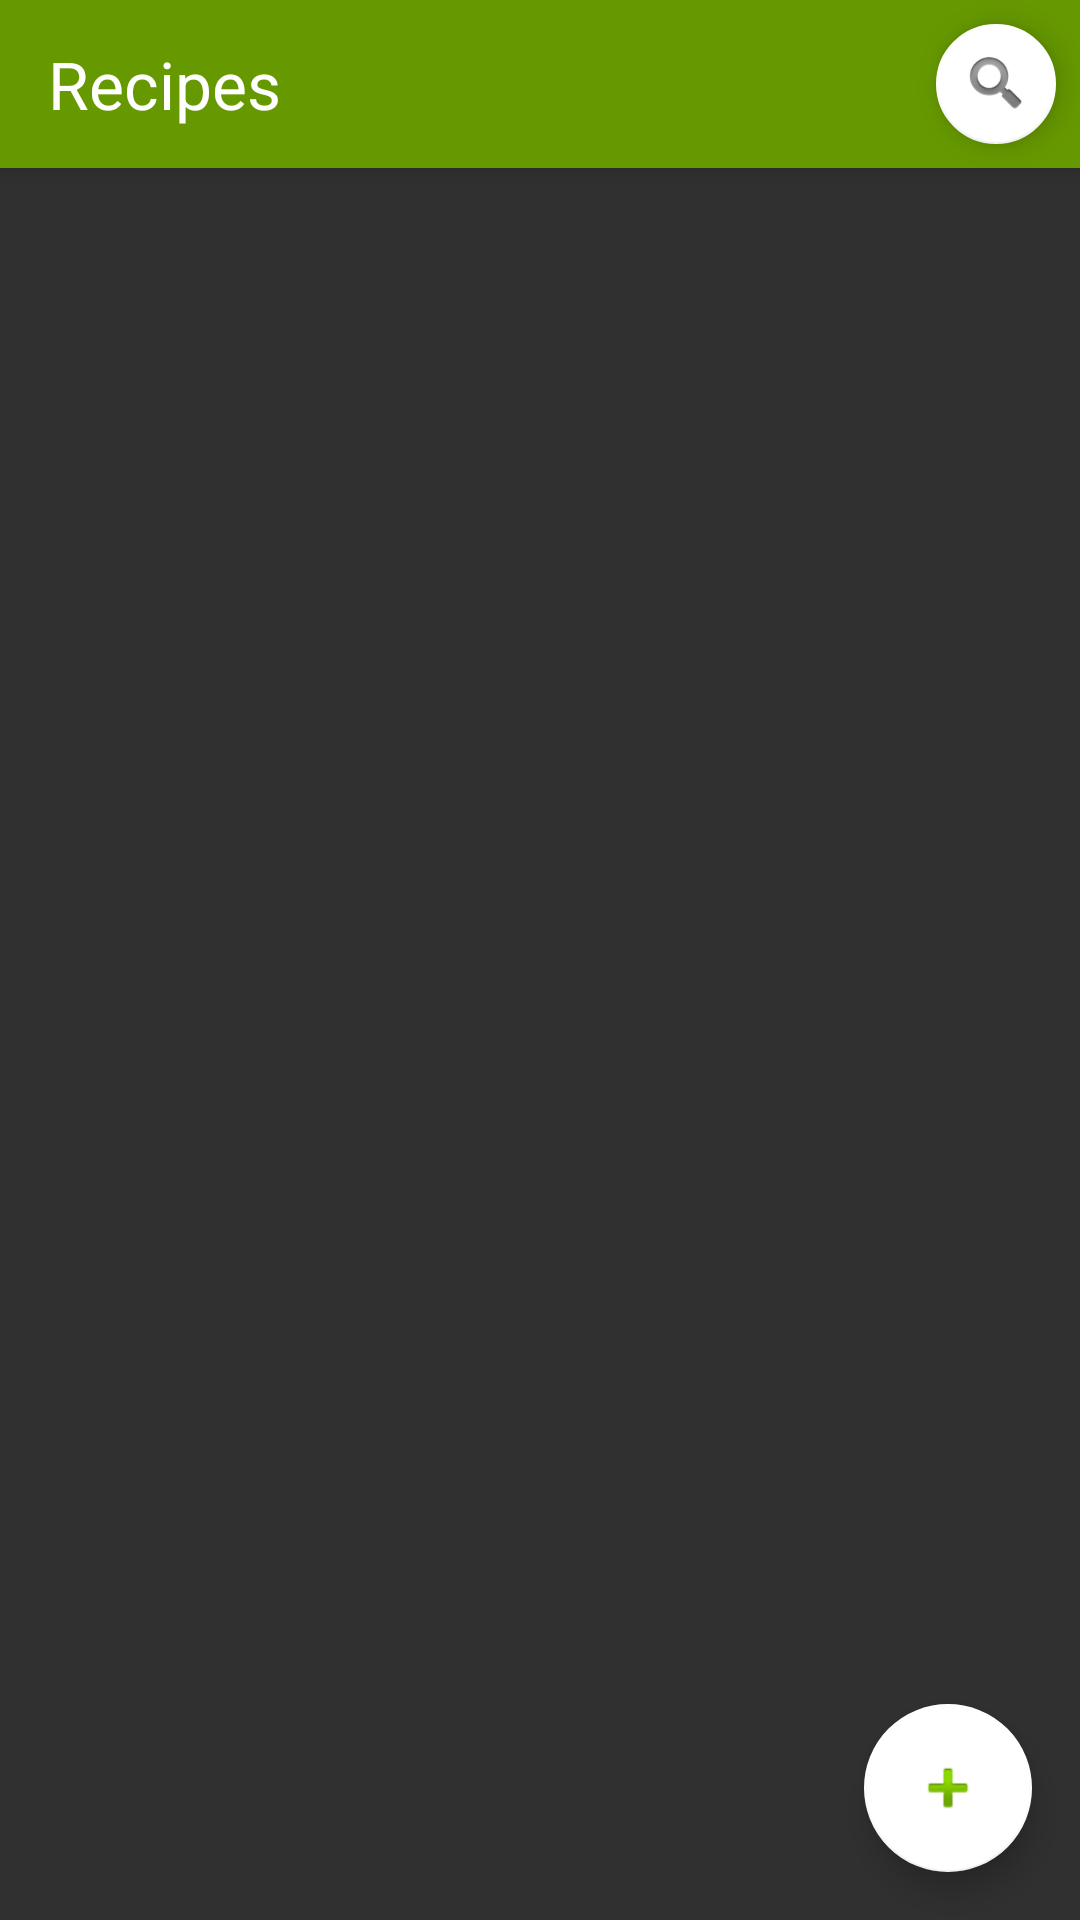

Locate icon controls on the screen. Image size 1080×1920, boxes as Rect(x1, y1, x2, y2).
add: Rect(864, 1704, 1032, 1872)
search category: Rect(936, 24, 1056, 144)
